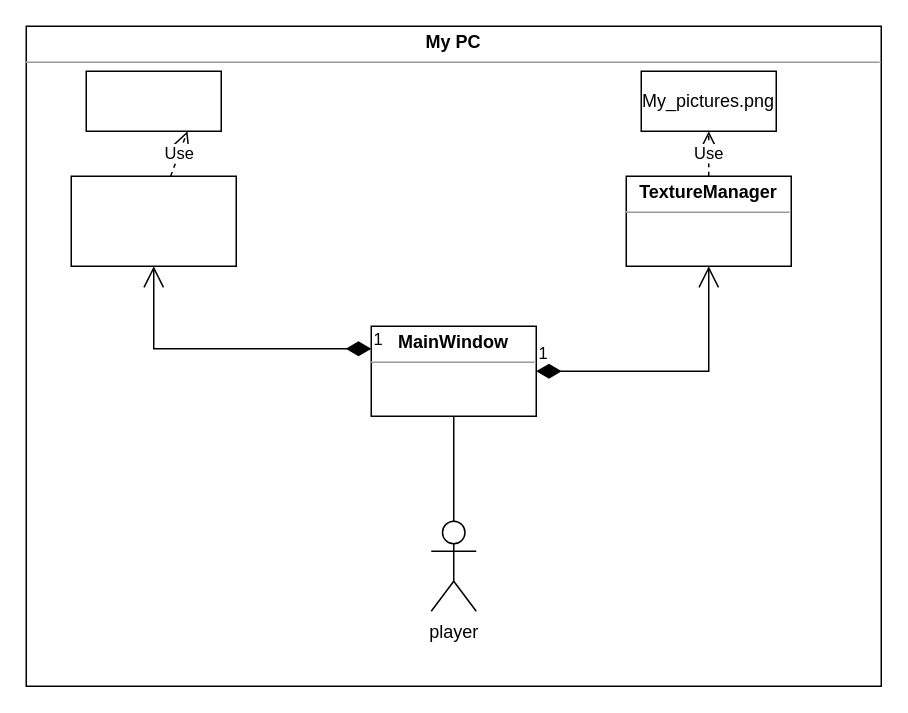
This 908x713 diagram has some shape labels left out. The shapes that lost their labels are listed below. From the top down, each one's centre as x and y in pixels, then its label:
At point (153, 100): "my_music.ogg".
At point (153, 220): "Music".
